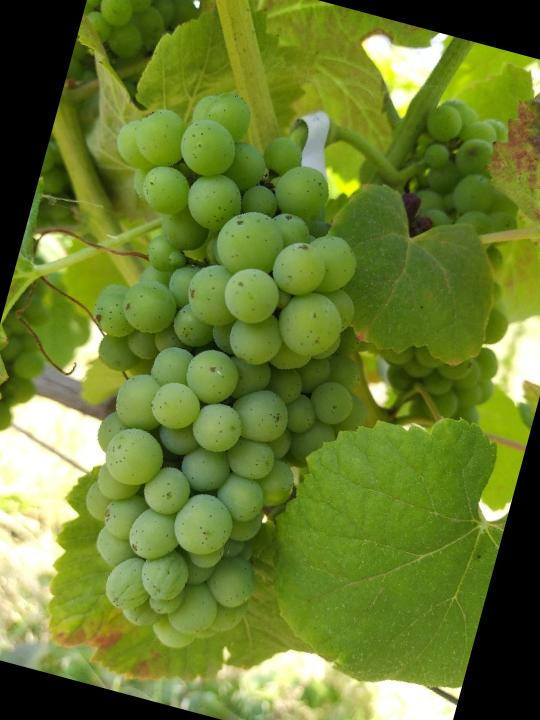grape: (0, 66, 427, 686)
